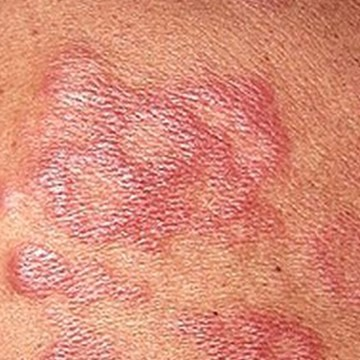Leprosy: (34, 41, 291, 245), (6, 241, 155, 359), (170, 299, 328, 359)
